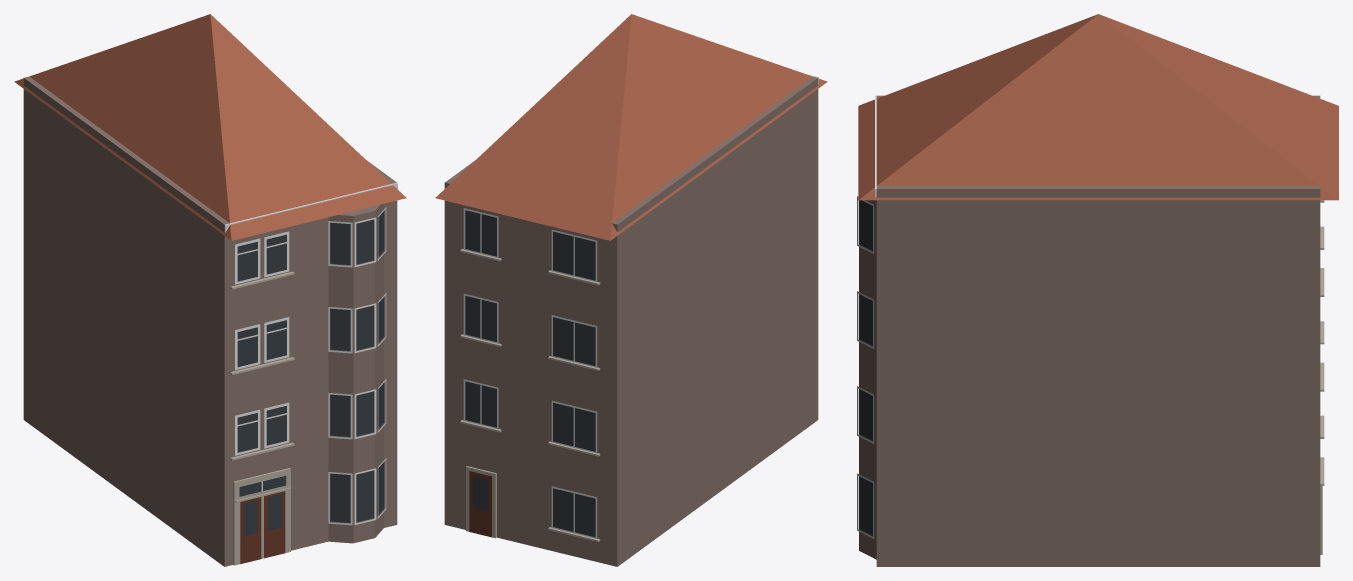
The model's file is we-pk-bay__brown__4__hip__long__solid__f0d0__mirror.glb.
The picture shows the model from 3 angles, left to right: view 1: azimuth 30°, elevation 25°; view 2: azimuth 150°, elevation 25°; view 3: azimuth 270°, elevation 25°; orthographic projection. The views are drawn at different scales.
Parts seen in each view (by area): view 1: we-pk-bay__brown__4__hip__long__solid__f0d0__mirror; view 2: we-pk-bay__brown__4__hip__long__solid__f0d0__mirror; view 3: we-pk-bay__brown__4__hip__long__solid__f0d0__mirror.
Boxes of the visible parts, bbox=[...] form: we-pk-bay__brown__4__hip__long__solid__f0d0__mirror: bbox=[14, 14, 406, 566]; we-pk-bay__brown__4__hip__long__solid__f0d0__mirror: bbox=[435, 14, 827, 566]; we-pk-bay__brown__4__hip__long__solid__f0d0__mirror: bbox=[857, 14, 1338, 566].
Bounding box in the file's own units: 6.62 × 16.54 × 14.29.
